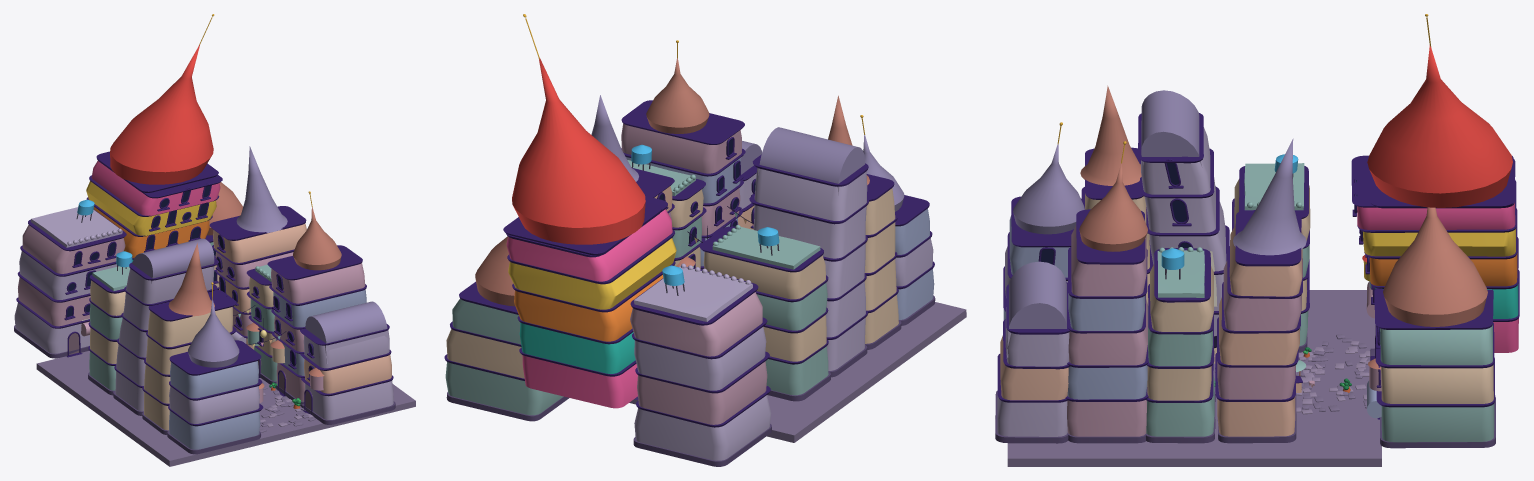
Rendered from doodle.glb.
3 renders of one model, left to right at view 1: azimuth 30°, elevation 25°; view 2: azimuth 150°, elevation 25°; view 3: azimuth 270°, elevation 25°, orthographic. The views are drawn at different scales.
Visible parts, largest first — view 1: shop_front, flank_l, lane_l3, lane_r3, lane_r2, ground, lane_r0, lane_l1, lane_l2, lane_l0, lane_r1, flank_r; view 2: shop_front, flank_l, lane_l1, lane_l0, flank_r, lane_r2, ground, lane_l2, lane_l3, lane_r1, lane_r0, lane_r3; view 3: shop_front, flank_r, lane_r0, ground, lane_r2, lane_r1, lane_r3, lane_l1, lane_l3, lane_l2, lane_l0.
Boxes of the visible parts, x1,y1,x2,y2 form: shop_front: [86, 14, 222, 261]; flank_l: [14, 199, 126, 358]; lane_l3: [167, 282, 264, 454]; lane_r3: [300, 301, 395, 424]; lane_r2: [267, 191, 366, 405]; ground: [36, 350, 415, 466]; lane_r0: [209, 146, 306, 349]; lane_l1: [113, 238, 218, 415]; lane_l2: [142, 243, 236, 434]; lane_l0: [88, 251, 132, 395]; lane_r1: [246, 264, 277, 384]; flank_r: [205, 182, 242, 289]; shop_front: [503, 14, 676, 408]; flank_l: [630, 263, 771, 466]; lane_l1: [749, 127, 868, 377]; lane_l0: [699, 225, 830, 401]; flank_r: [444, 236, 568, 421]; lane_r2: [621, 40, 745, 268]; ground: [629, 302, 966, 442]; lane_l2: [828, 95, 901, 349]; lane_l3: [860, 115, 935, 325]; lane_r1: [627, 144, 706, 269]; lane_r0: [591, 95, 674, 222]; lane_r3: [738, 141, 761, 229]; shop_front: [1351, 14, 1519, 360]; flank_r: [1367, 207, 1495, 448]; lane_r0: [1215, 138, 1306, 443]; ground: [1007, 290, 1381, 466]; lane_r2: [1065, 141, 1148, 443]; lane_r1: [1145, 247, 1215, 443]; lane_r3: [995, 261, 1070, 443]; lane_l1: [1138, 90, 1229, 336]; lane_l3: [1003, 122, 1084, 319]; lane_l2: [1080, 85, 1153, 305]; lane_l0: [1232, 154, 1310, 352].
Size of the model in its own units: 32.01 by 36.84 by 42.03.
